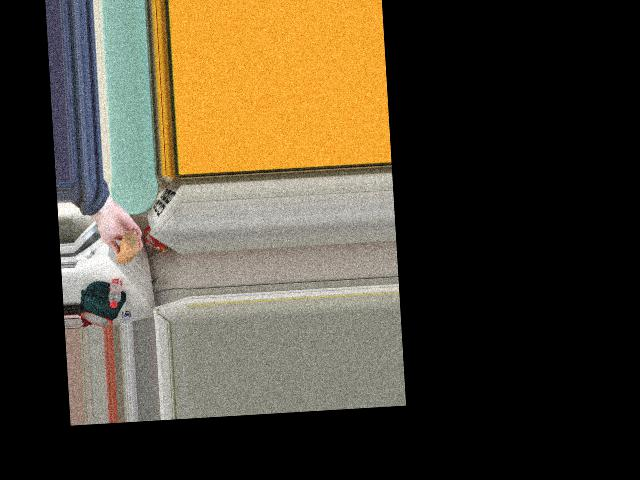sweet_potato: (115, 234, 139, 264)
